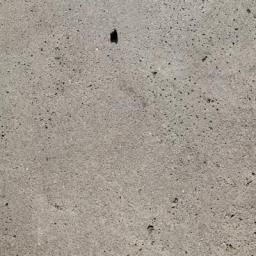FOD: (107, 25, 122, 48)
